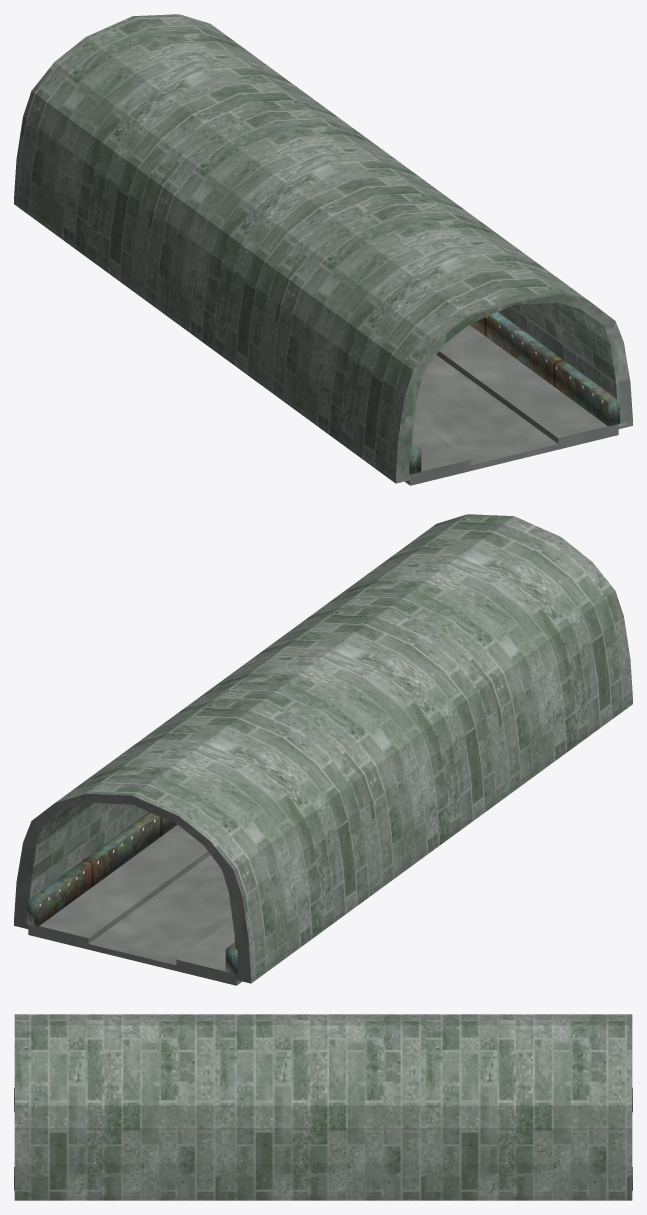
File: Tunnel.glb
3 renders of one model, top to bottom at view 1: azimuth 30°, elevation 25°; view 2: azimuth 150°, elevation 25°; view 3: azimuth 270°, elevation 25°, orthographic. The views are drawn at different scales.
Parts seen in each view (by area): view 1: Tunnel.001, Sides.001; view 2: Tunnel.001, Sides.001; view 3: Tunnel.001.
Boxes of the visible parts, left/top/right/bottom form: Tunnel.001: left=14, top=14, right=632, bottom=485; Sides.001: left=409, top=312, right=619, bottom=474; Tunnel.001: left=14, top=514, right=632, bottom=985; Sides.001: left=27, top=812, right=237, bottom=974; Tunnel.001: left=14, top=1014, right=632, bottom=1200.
Size of the model in its own units: 12.19 by 8.09 by 34.07.
Materials: 2 (2 with a texture image).
